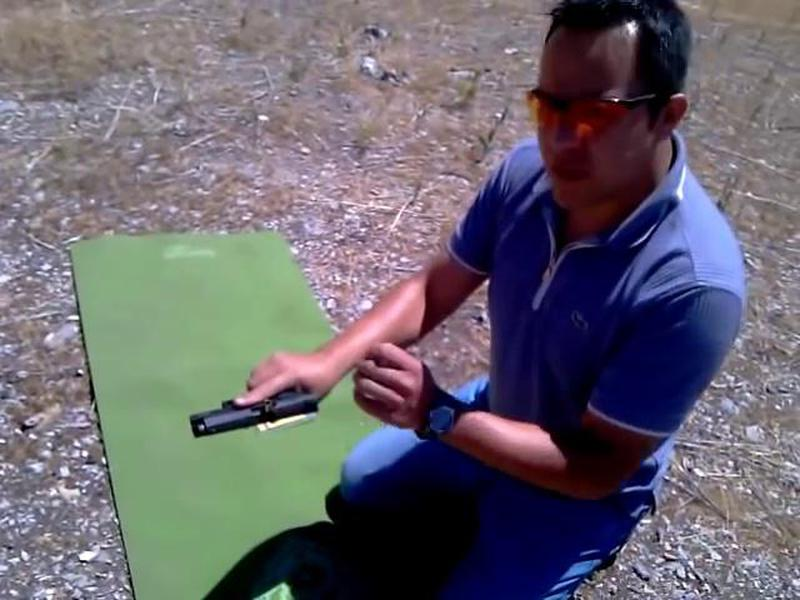Pistola: (157, 347, 334, 457)
